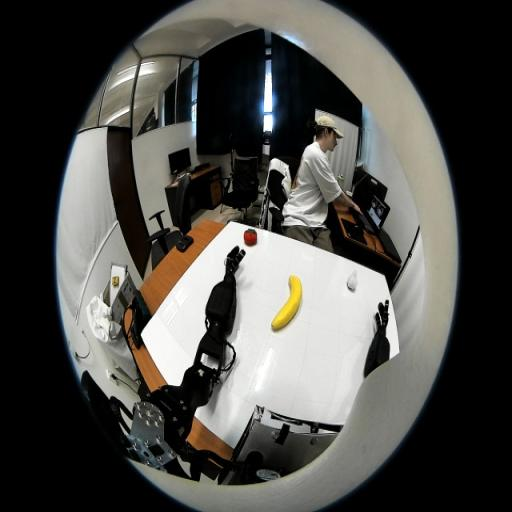Banana: (271, 274, 303, 332)
LeftHand: (226, 260, 236, 276)
Onion: (347, 268, 358, 290)
RightHand: (378, 317, 388, 329)
Tomato: (243, 228, 258, 245)
